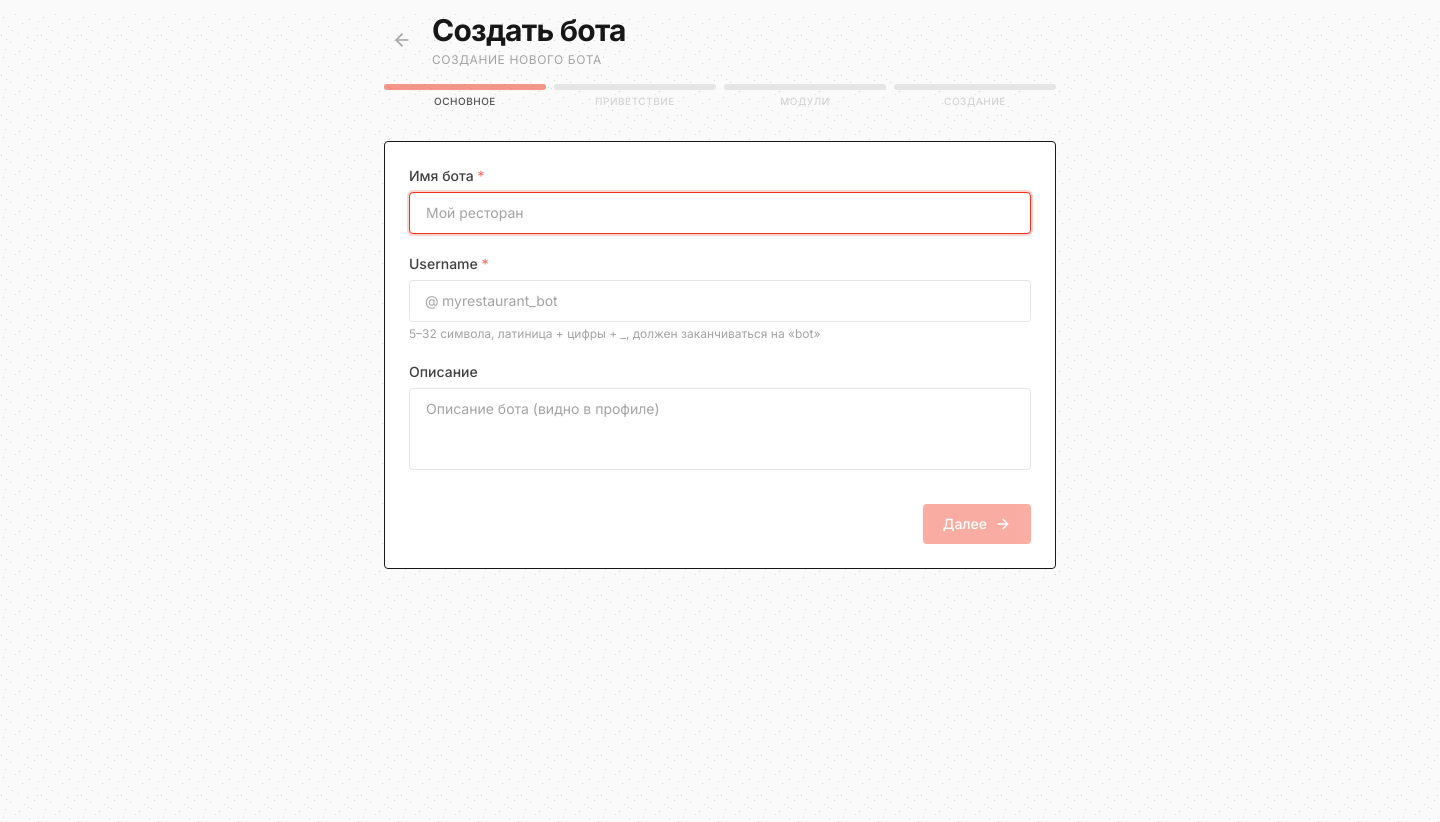
Test: CreateBotPage › validates basic wizard step and sanitizes username input
Expected: the button "Далее" is disabled, [923,504,1031,544]
Type "Бар" into the field with placeholder "Мой ресторан". click: x=720, y=213
box: [409,192,1031,234]
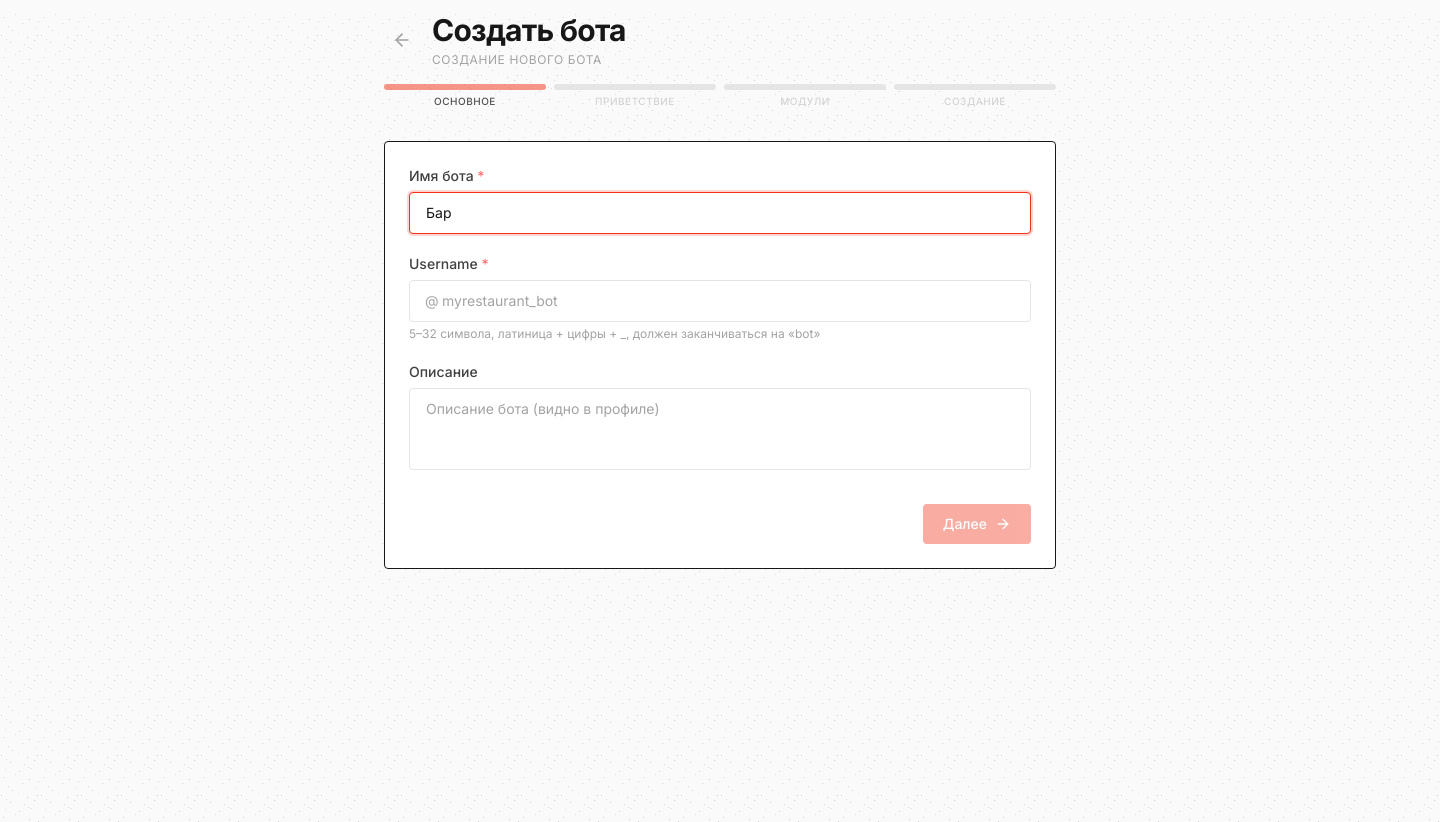
Type "bot" into the field with placeholder "myrestaurant_bot". click: x=720, y=301
box: [409,280,1031,322]
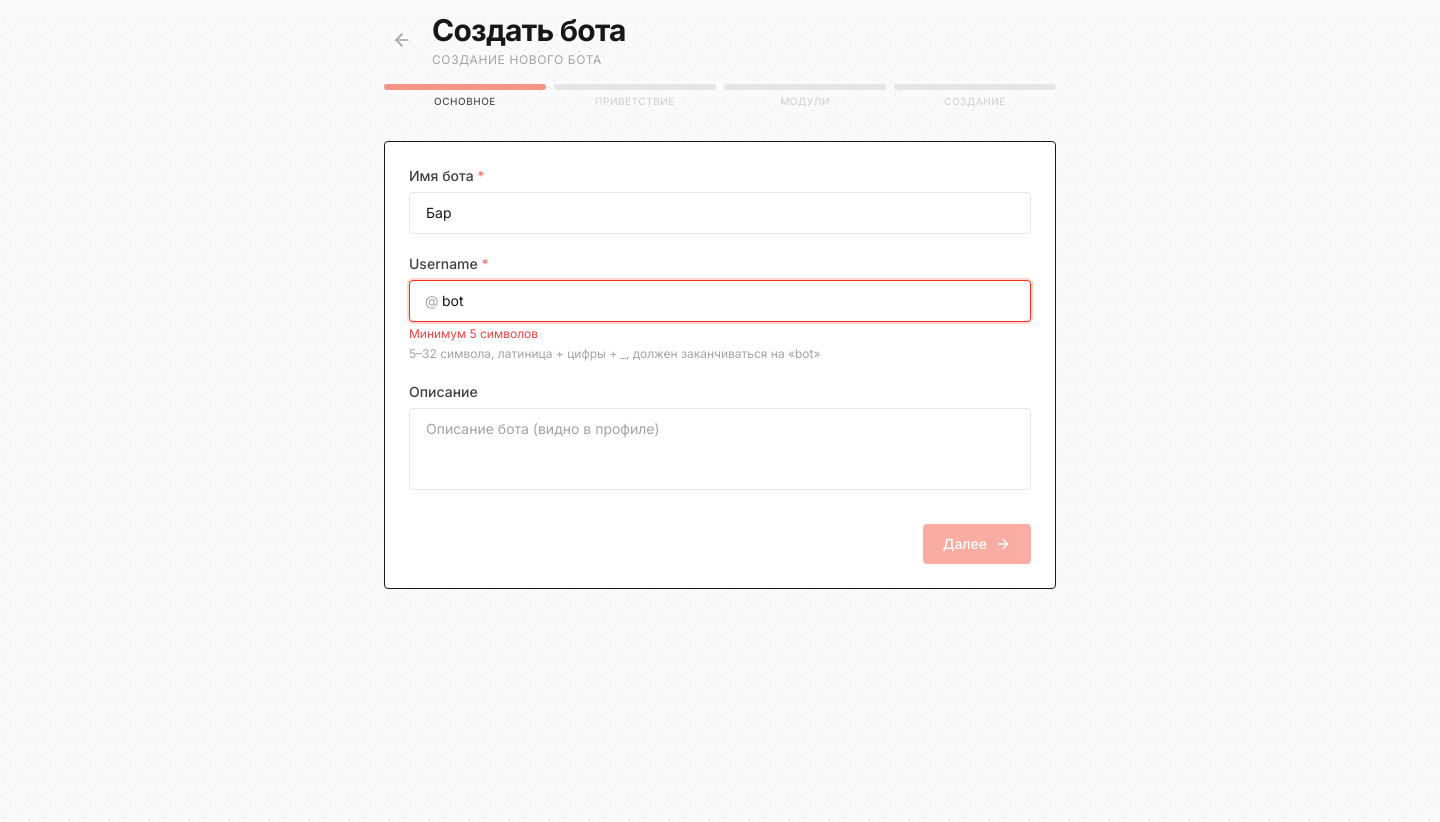
Expected: the button "Далее" is disabled, [923,524,1031,564]
Now the text "Минимум 5 символов" is shown, box [409,326,538,341]
Replace the text in the field with placeholder "myrestaurant_bot" below "Username" with "bad-name". click: x=720, y=301
box: [409,280,1031,322]
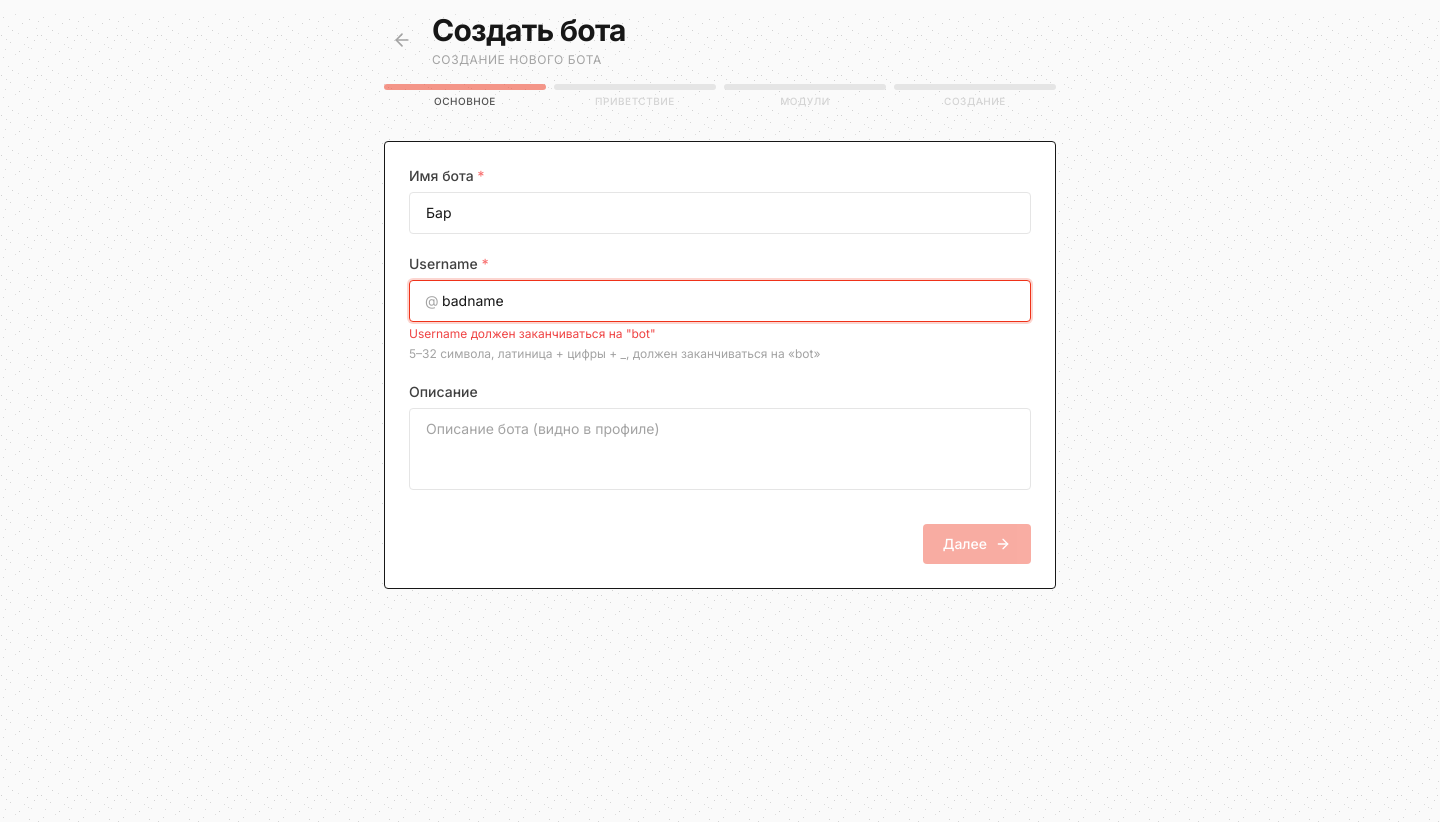
Expected: the button "Далее" is disabled, [923,524,1031,564]
Now the 2nd field with placeholder "myrestaurant_bot" holds "badname"
Now the text "Username должен заканчиваться на \"bot\"" is shown, box [409,326,656,341]
Replace the text in the 2nd field with placeholder "myrestaurant_bot" with "brand_new_bot". click: x=720, y=301
box: [409,280,1031,322]
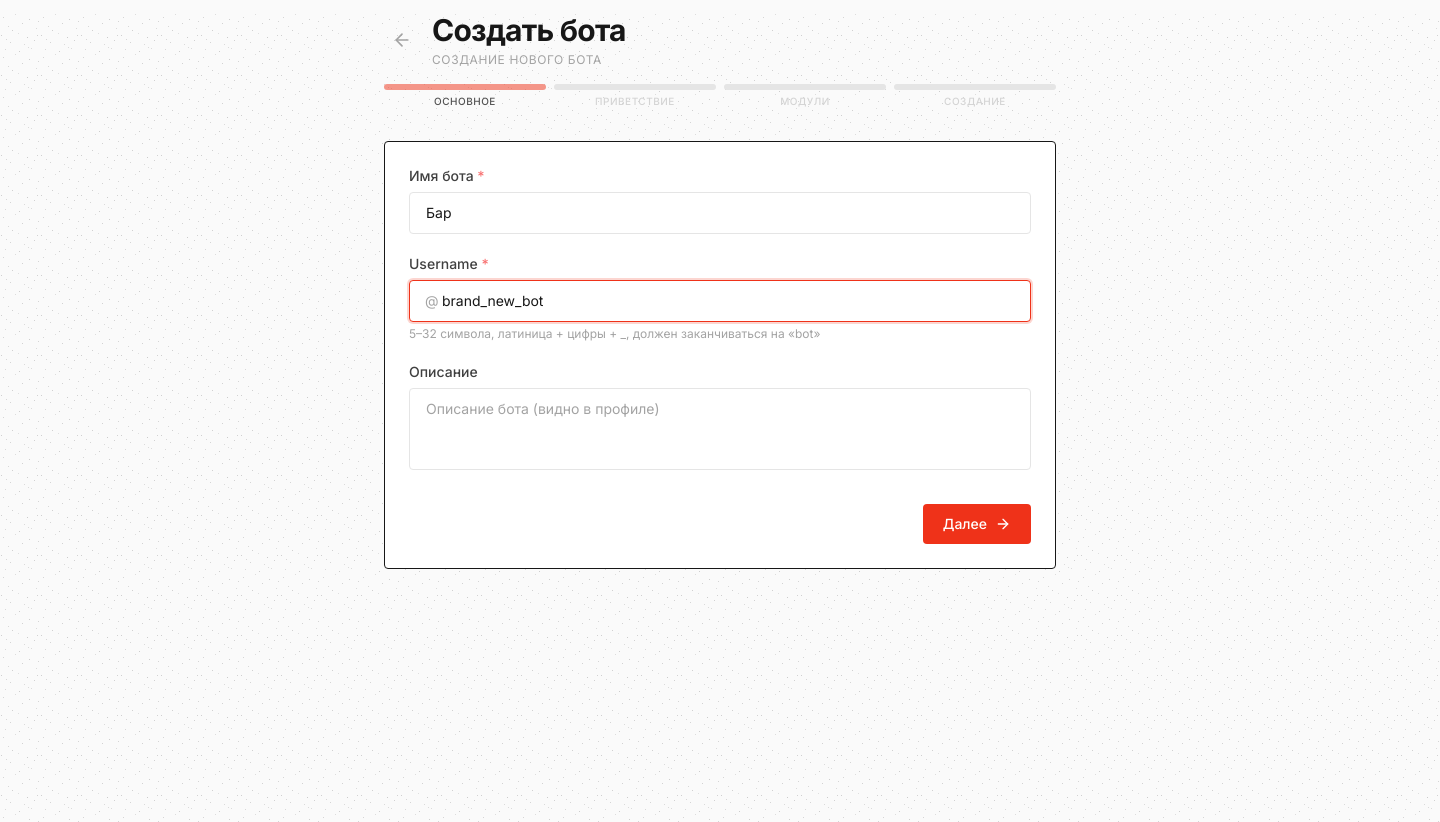
Expected: the text "Минимум 5 символов" is not shown
Now the button "Далее" is enabled, box [923,504,1031,544]
